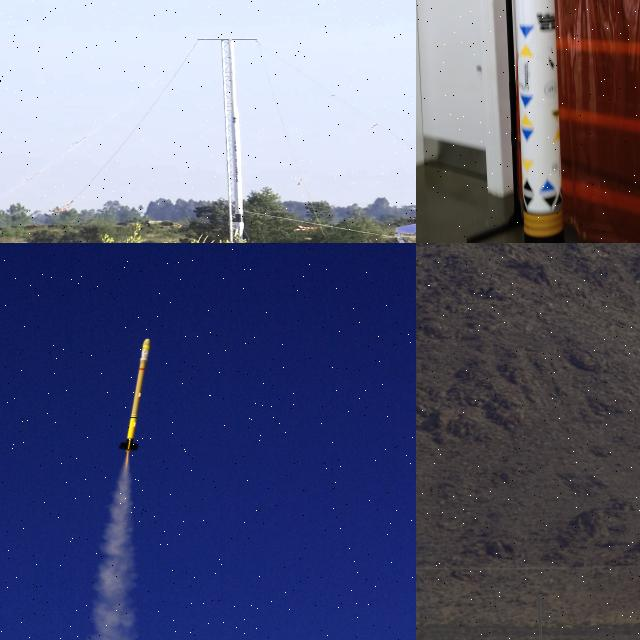Rocket: (515, 0, 565, 243), (117, 338, 151, 452), (230, 107, 249, 242)
